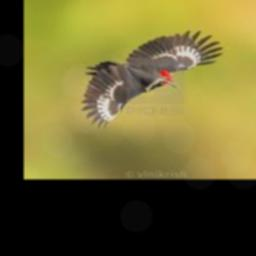Woodpecker: (81, 30, 224, 128)
